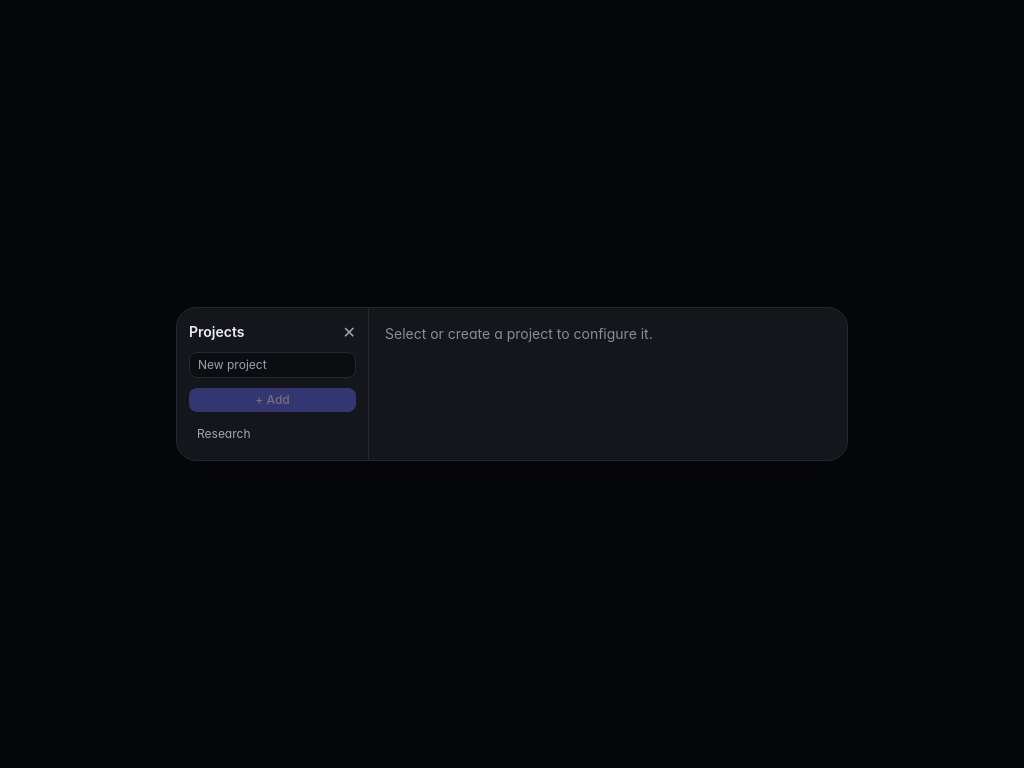
it: ProjectsModal › editing the selected project updates its name, description, and instructions
Click the button "Research" at (272, 434), box [189,420,356,448]
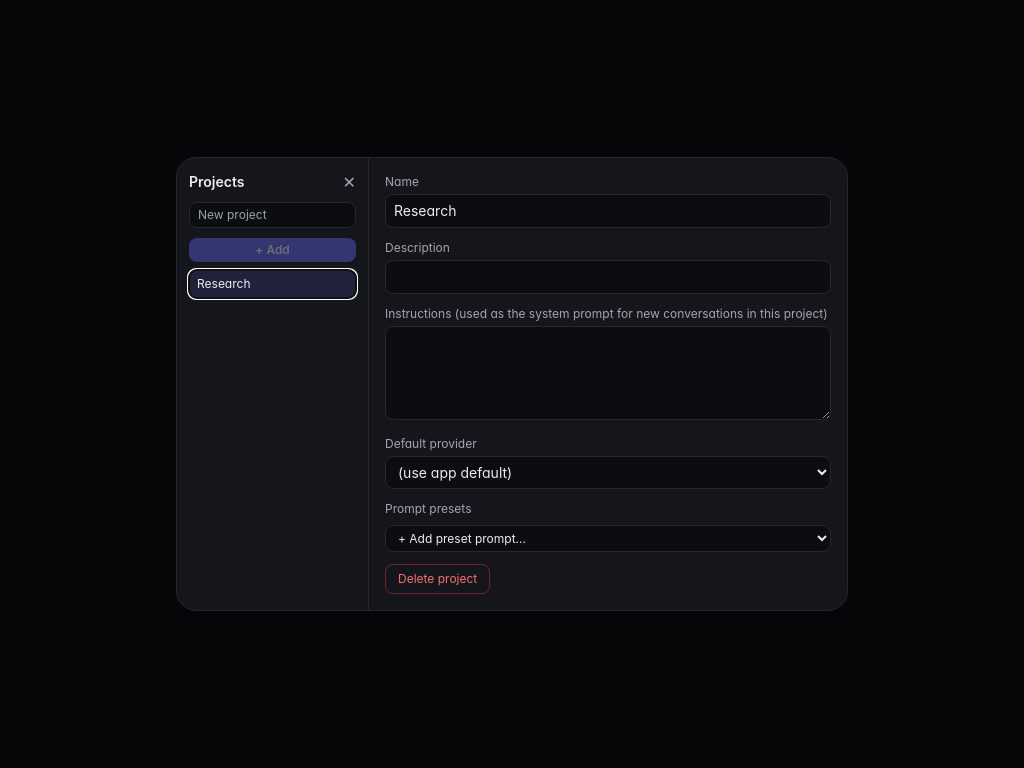
Replace the text in the field showing "Research" with "Deep Research" at (608, 211), box [385,194,831,228]
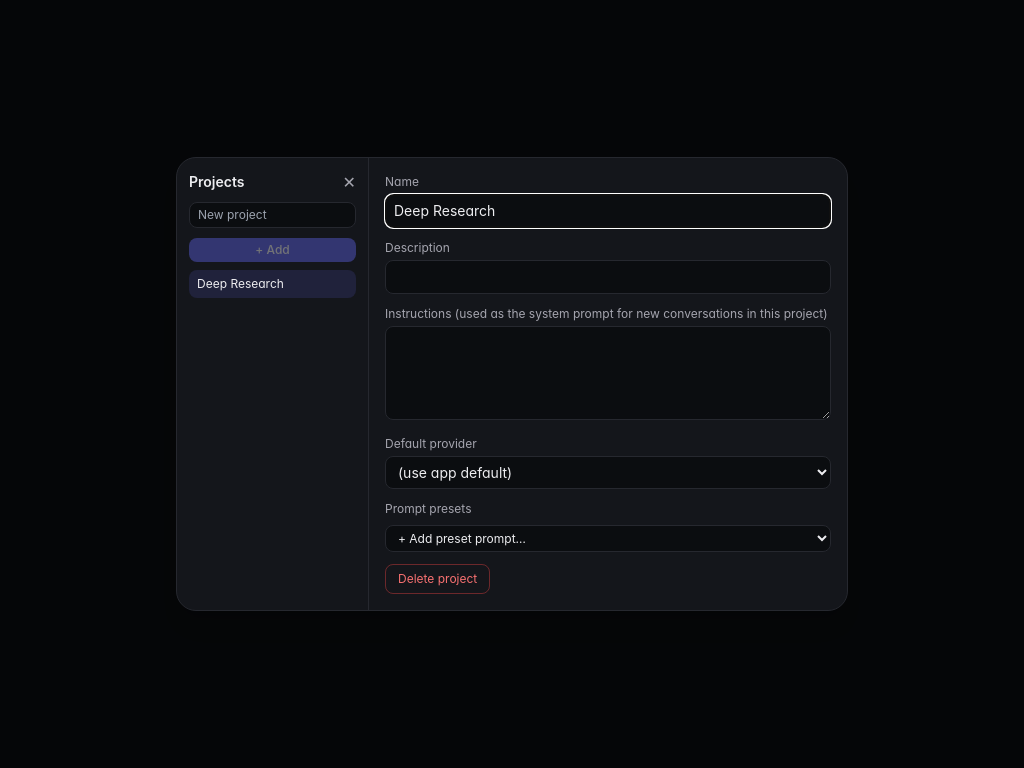
Now the button "Deep Research" is shown, box [189,270,356,298]
